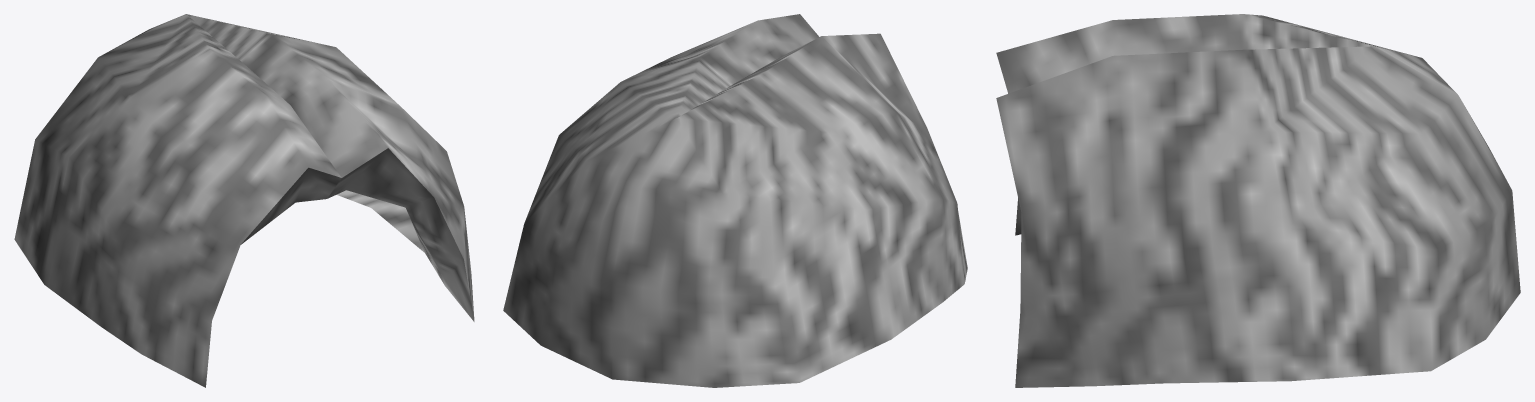
Rendered from Wig_Kate_Hair_PartingCentre.fbx.
3 views of the same model, side by side, from view 1: azimuth 30°, elevation 25°; view 2: azimuth 150°, elevation 25°; view 3: azimuth 270°, elevation 25° (orthographic). The views are drawn at different scales.
Parts seen in each view (by area): view 1: BoxOfJars003; view 2: BoxOfJars003; view 3: BoxOfJars003.
Part boxes in pixels (box(x1,y1,x2,y2)): BoxOfJars003: box(14, 14, 474, 387); BoxOfJars003: box(503, 14, 967, 387); BoxOfJars003: box(996, 14, 1520, 387).
Bounding box in the file's own units: 11.71 × 7.61 × 12.92.
